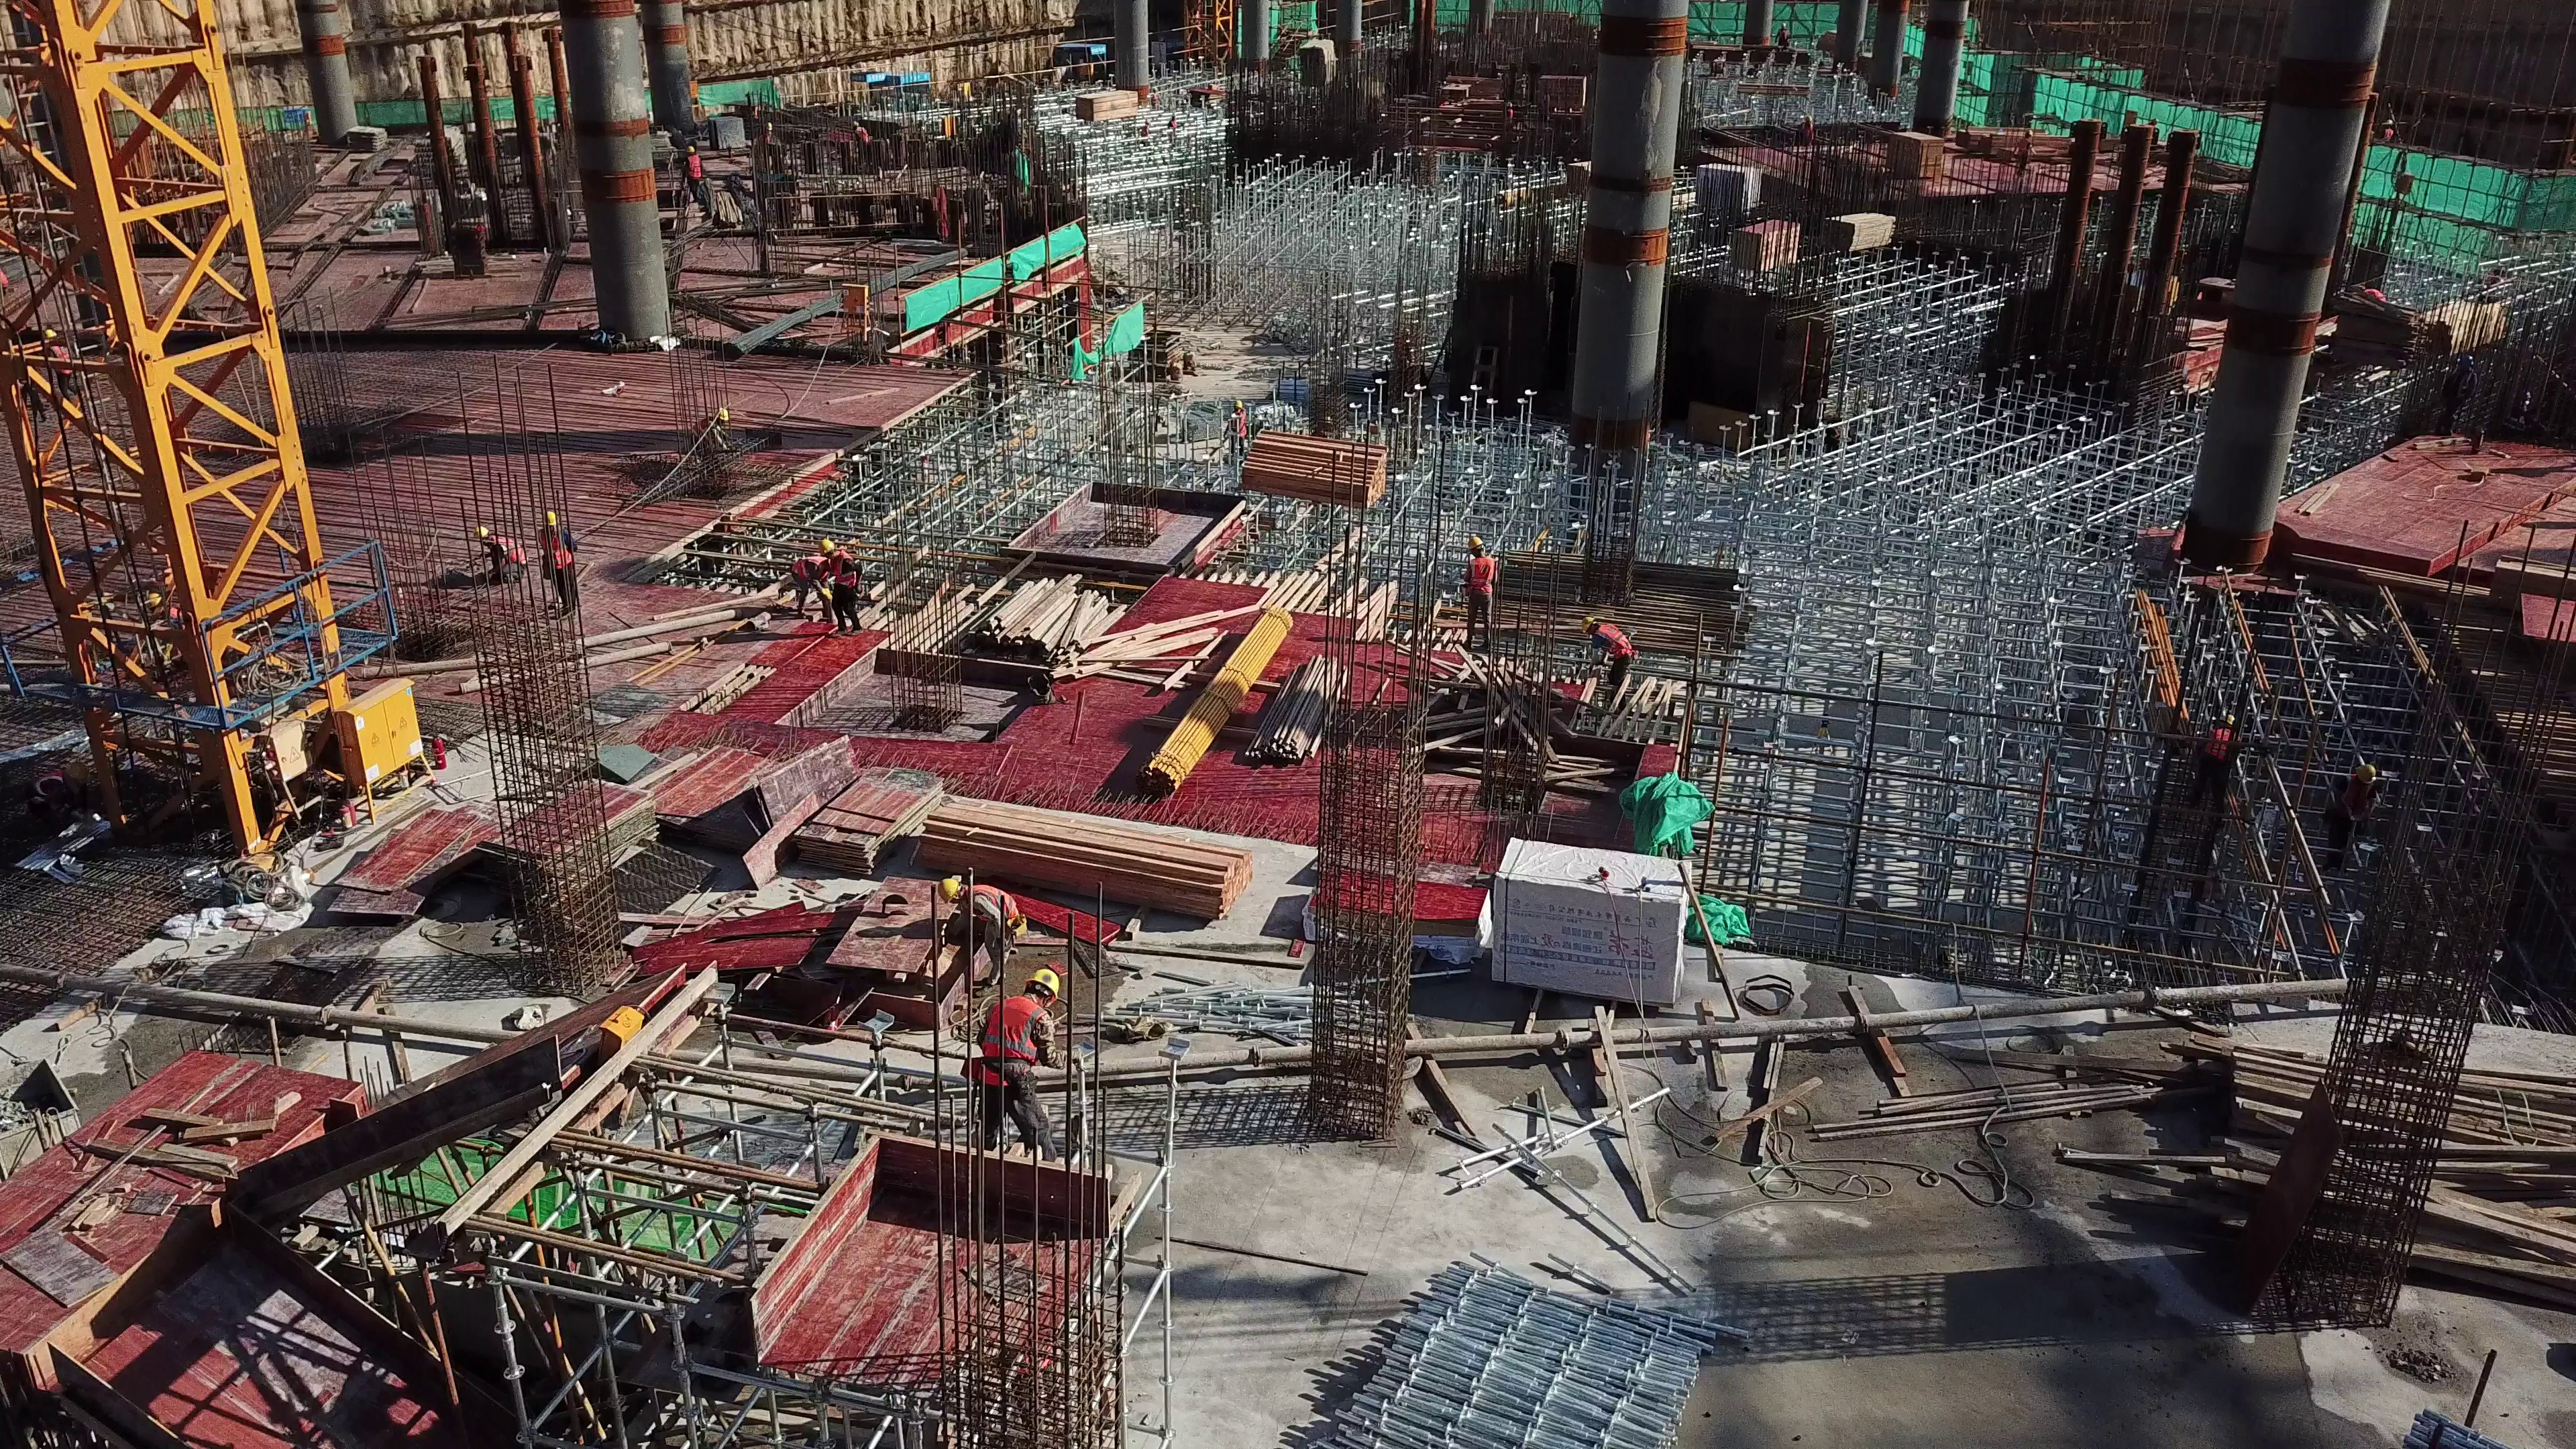helmet: (1026, 966, 1059, 1000), (934, 877, 959, 904), (2355, 763, 2376, 784), (818, 538, 835, 556), (542, 511, 557, 528), (1578, 615, 1593, 630), (1466, 535, 1482, 549)
person: (977, 968, 1084, 1163), (934, 879, 1020, 984), (2324, 763, 2378, 868), (1579, 616, 1634, 712), (818, 539, 863, 639), (1460, 536, 1497, 653), (538, 511, 578, 617), (777, 555, 833, 623), (2436, 354, 2478, 436), (473, 526, 529, 586), (682, 146, 706, 203), (1224, 399, 1246, 457), (2015, 129, 2037, 176)
vest: (983, 995, 1037, 1086), (963, 885, 1017, 924), (1597, 621, 1633, 661), (539, 526, 571, 569), (492, 533, 527, 568), (830, 548, 857, 589), (1469, 557, 1495, 597), (790, 554, 820, 581)
